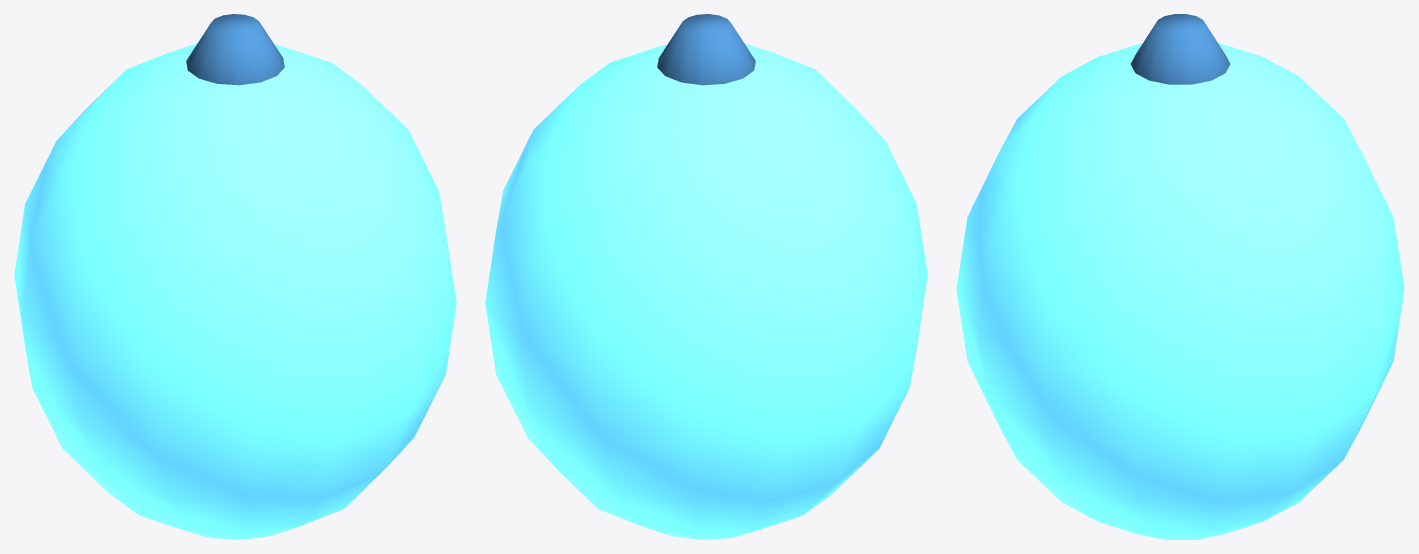
The model's file is water_bomb.glb.
3 views of the same model, side by side, from view 1: azimuth 30°, elevation 25°; view 2: azimuth 150°, elevation 25°; view 3: azimuth 270°, elevation 25° (orthographic).
Visible parts, largest first — view 1: Balloon, Knot; view 2: Balloon, Knot; view 3: Balloon, Knot.
Boxes of the visible parts, x1=… form: Balloon: x1=14, y1=43, x2=456, y2=539; Knot: x1=186, y1=14, x2=284, y2=85; Balloon: x1=485, y1=43, x2=927, y2=539; Knot: x1=657, y1=14, x2=755, y2=85; Balloon: x1=956, y1=43, x2=1404, y2=539; Knot: x1=1130, y1=14, x2=1230, y2=84.
Bounding box in the file's own units: 0.7019 × 0.884 × 0.72.
